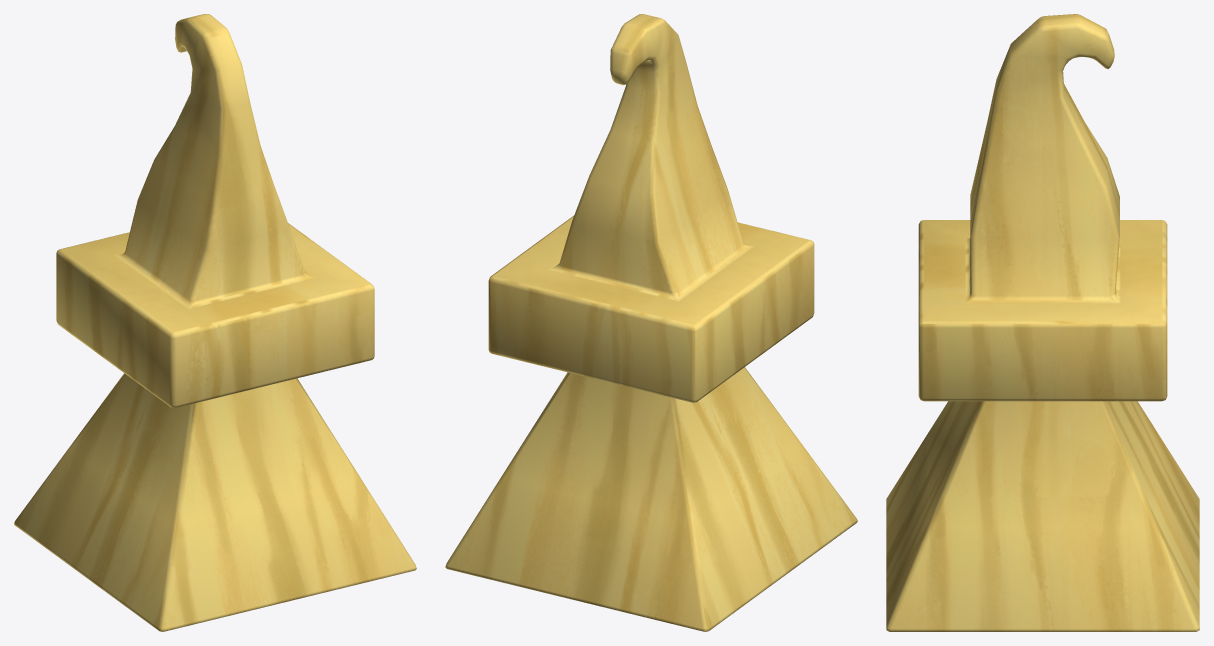
The model's file is kuningatar_1.fbx.
The picture shows the model from 3 angles, left to right: view 1: azimuth 30°, elevation 25°; view 2: azimuth 150°, elevation 25°; view 3: azimuth 270°, elevation 25°; orthographic projection. The views are drawn at different scales.
Parts seen in each view (by area): view 1: king.006; view 2: king.006; view 3: king.006.
Part boxes in pixels (bbox=[...]): king.006: bbox=[14, 14, 416, 631]; king.006: bbox=[445, 14, 857, 631]; king.006: bbox=[886, 14, 1199, 631].
Bounding box in the file's own units: 199 × 385 × 199.
1 material, 1 textured.
